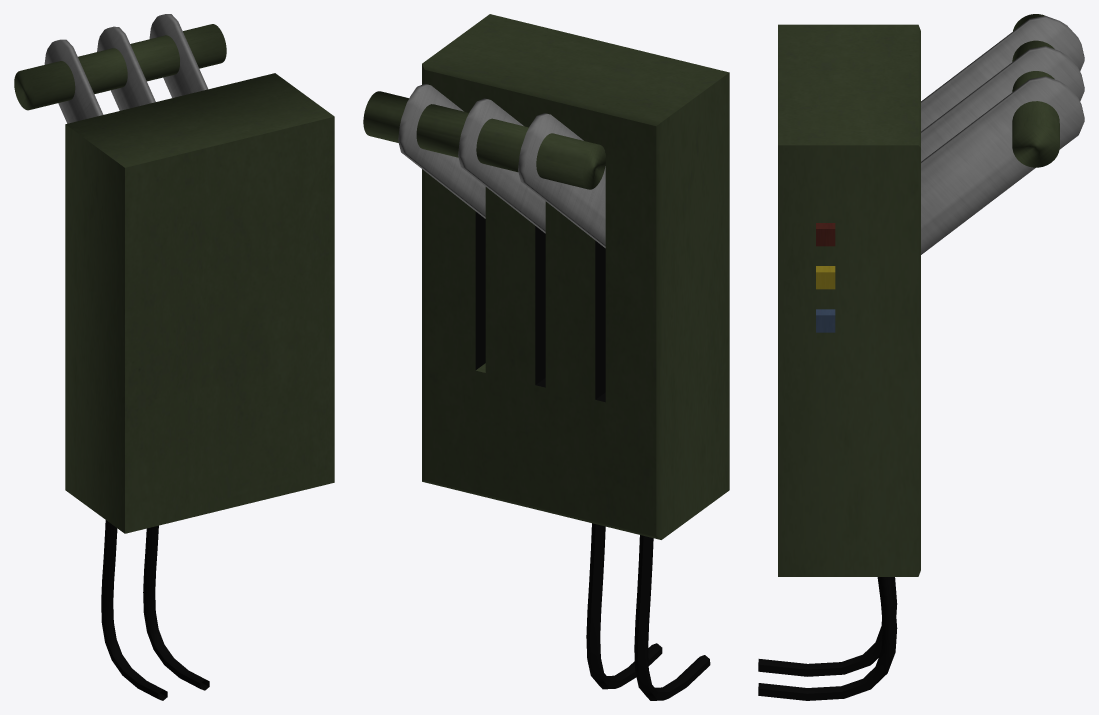
File: switch.fbx
3 renders of one model, left to right at view 1: azimuth 30°, elevation 25°; view 2: azimuth 150°, elevation 25°; view 3: azimuth 270°, elevation 25°, orthographic. The views are drawn at different scales.
Visible parts, largest first — view 1: Cube, Cube_001; view 2: Cube, Cube_001; view 3: Cube, Cube_001.
Boxes of the visible parts, left/top/right/bottom form: Cube: left=65, top=73, right=334, bottom=700; Cube_001: left=14, top=14, right=226, bottom=123; Cube: left=422, top=14, right=729, bottom=700; Cube_001: left=363, top=84, right=605, bottom=248; Cube: left=758, top=24, right=920, bottom=700; Cube_001: left=921, top=14, right=1084, bottom=254.
Size of the model in its own units: 0.63 by 1.56 by 0.6854.
